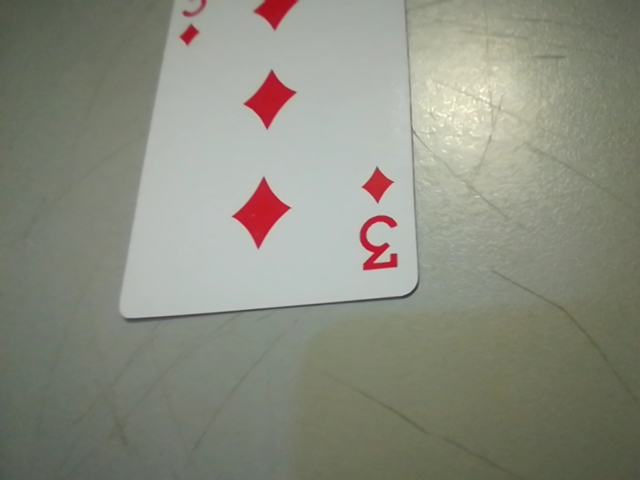fk 3: (346, 162, 413, 282)
